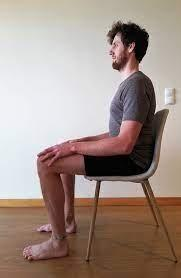good-pose: (0, 0, 181, 278)
